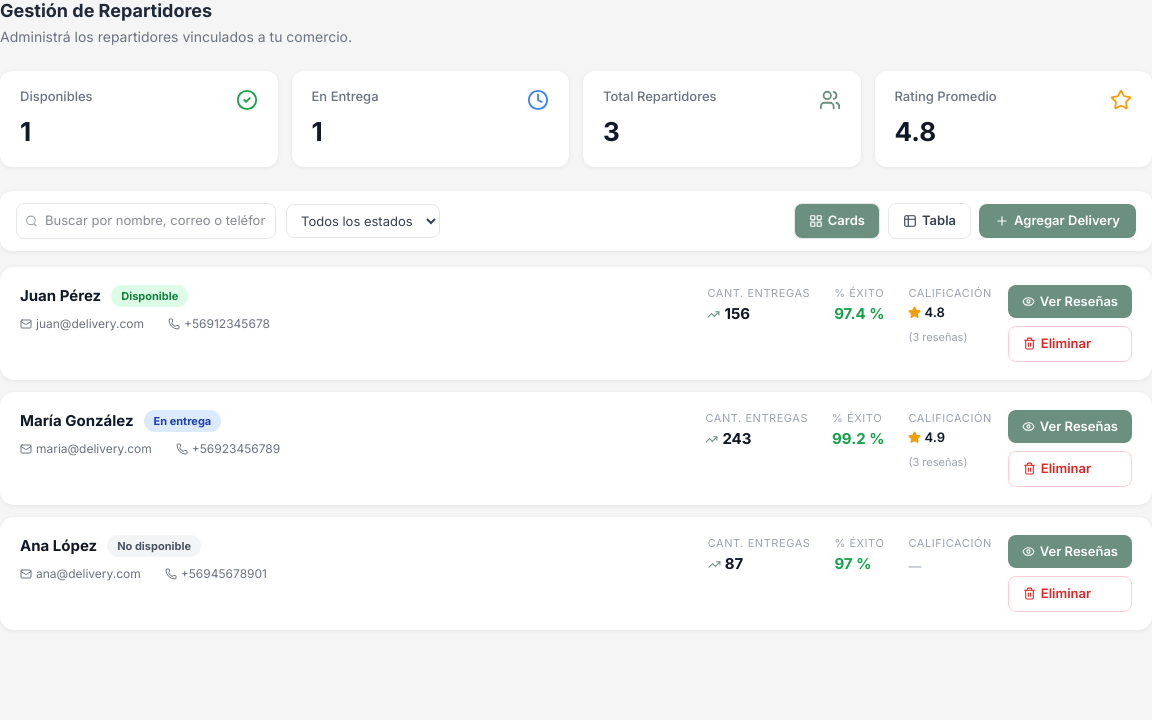
Test: CommerceDeliveriesPage › Modal de eliminación › abre el modal al hacer clic en Eliminar
Step 1. Click the button "Eliminar" in the row of "+56912345678" → coordinates (1070, 344), box [1008,326,1132,362]
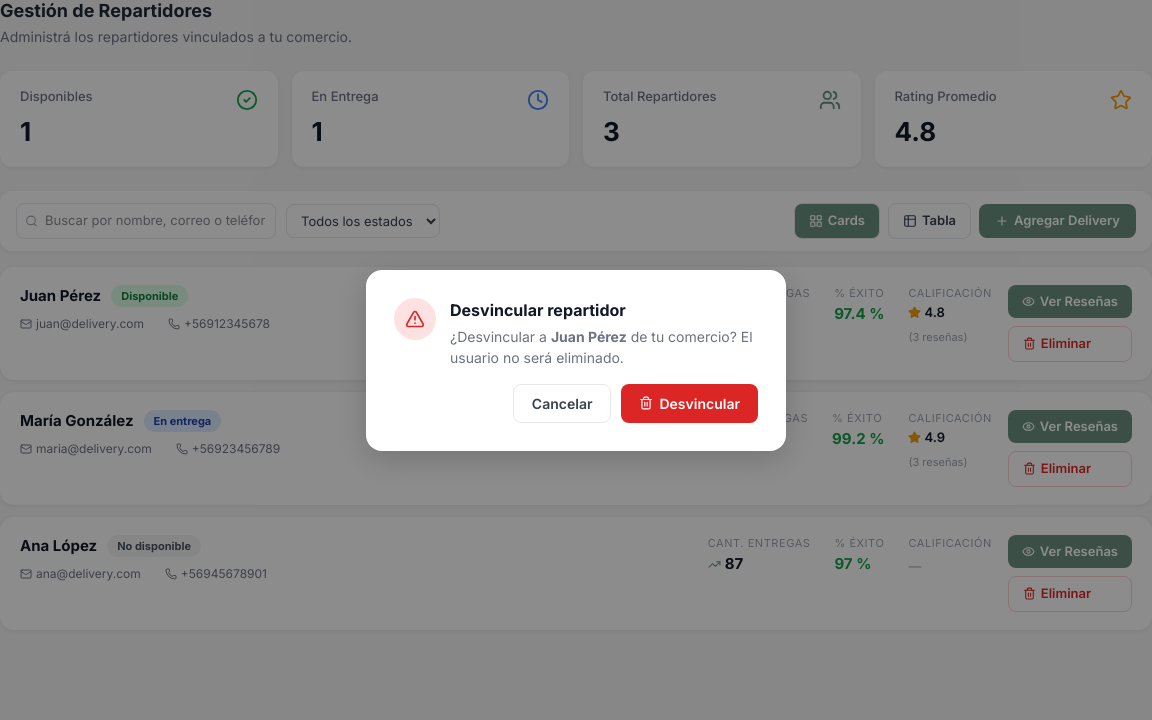
Expected: the text "Desvincular repartidor" is shown, [450,300,626,320]
Expected: the text "Desvincular a" is shown, [450,328,551,344]
Expected: the text "Juan Pérez" is shown, [551,328,627,344]
